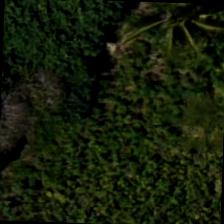Kelapa_Sawit: (131, 1, 223, 64)
